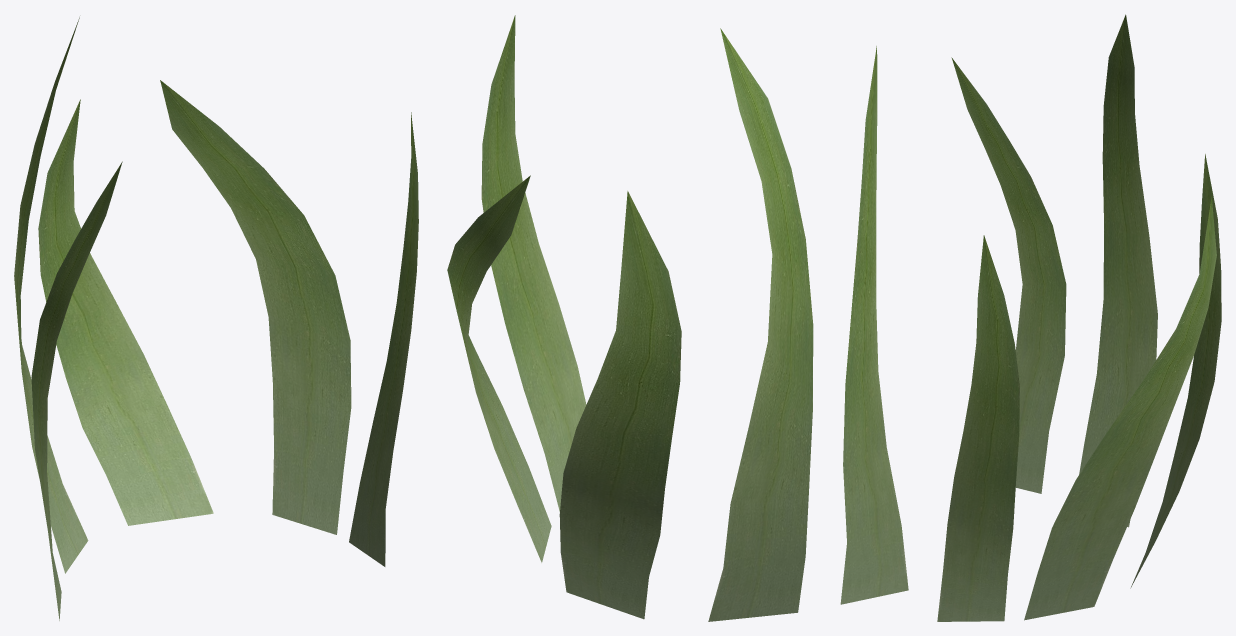
File: grass_blades_1.fbx
The picture shows the model from 3 angles, left to right: view 1: azimuth 30°, elevation 25°; view 2: azimuth 150°, elevation 25°; view 3: azimuth 270°, elevation 25°; orthographic projection. The views are drawn at different scales.
Parts seen in each view (by area): view 1: grass_blades_1; view 2: grass_blades_1; view 3: grass_blades_1.
Boxes of the visible parts, left/top/right/bottom form: grass_blades_1: left=14, top=17, right=418, bottom=620; grass_blades_1: left=447, top=15, right=908, bottom=621; grass_blades_1: left=937, top=14, right=1221, bottom=621.
Size of the model in its own units: 50.86 by 35.79 by 71.26.
